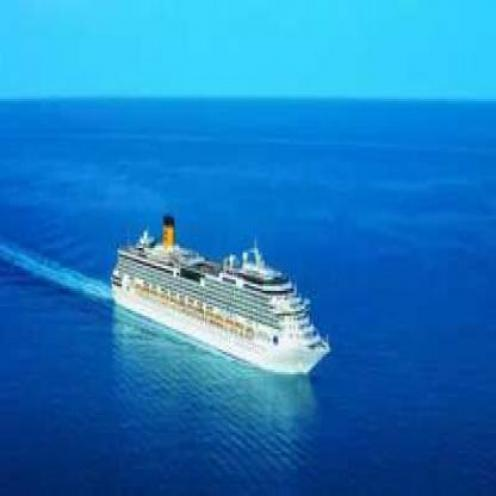Ship: (102, 228, 339, 378)
